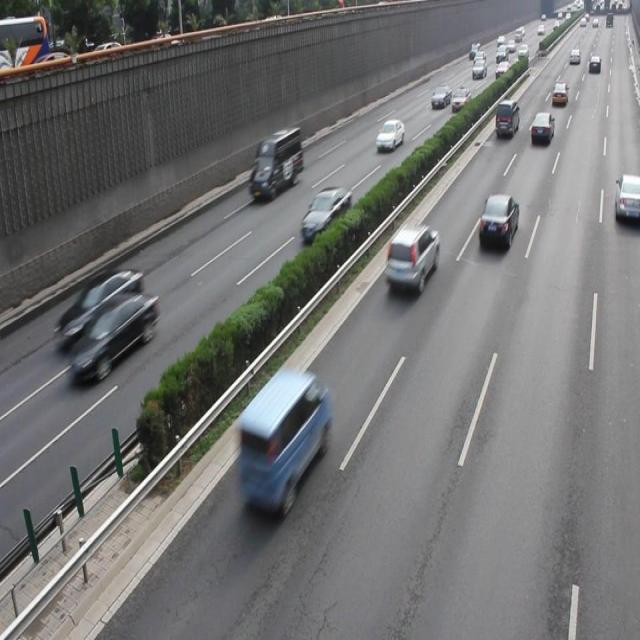car: (237, 366, 328, 516), (68, 290, 157, 381), (55, 266, 143, 348), (384, 222, 439, 295), (300, 184, 351, 241), (477, 192, 518, 249), (612, 172, 640, 223)
truck: (248, 125, 302, 201)
